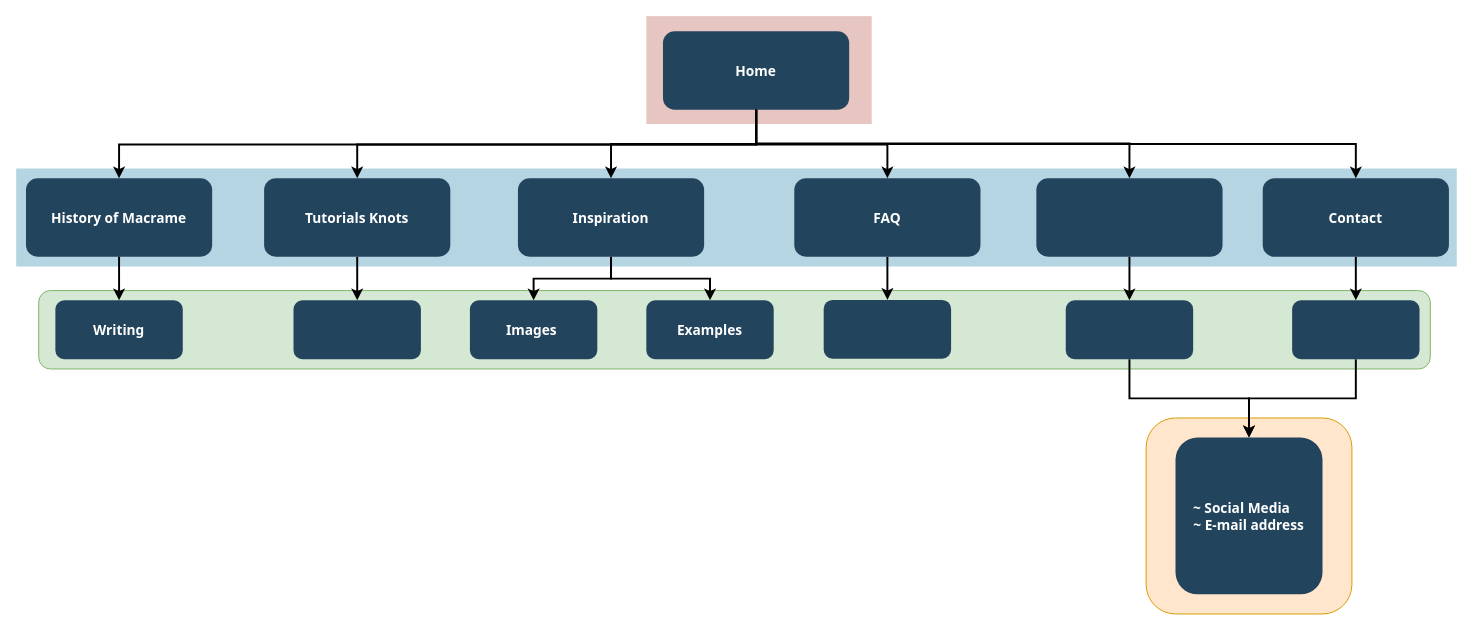
Image size: 1473x630. Some labels were removed from this diagram. Each missing label, with the box of its shape:
About Us: (1036, 178, 1222, 256)
Biography: (1065, 300, 1193, 359)
Portafolio: (1292, 300, 1419, 359)
Questions: (823, 299, 951, 358)
Videos: (293, 300, 420, 359)
